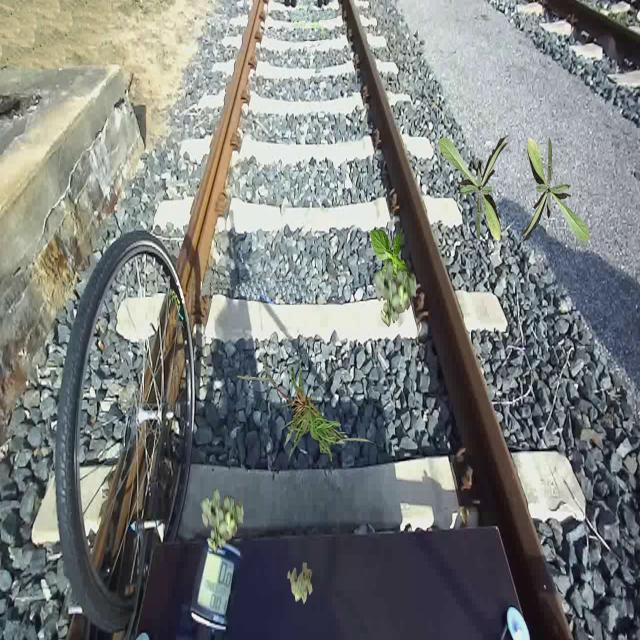Plant: (237, 345, 380, 464), (438, 135, 510, 243), (518, 136, 590, 244), (370, 227, 412, 298), (200, 488, 244, 554), (373, 261, 416, 328), (287, 562, 313, 604)
